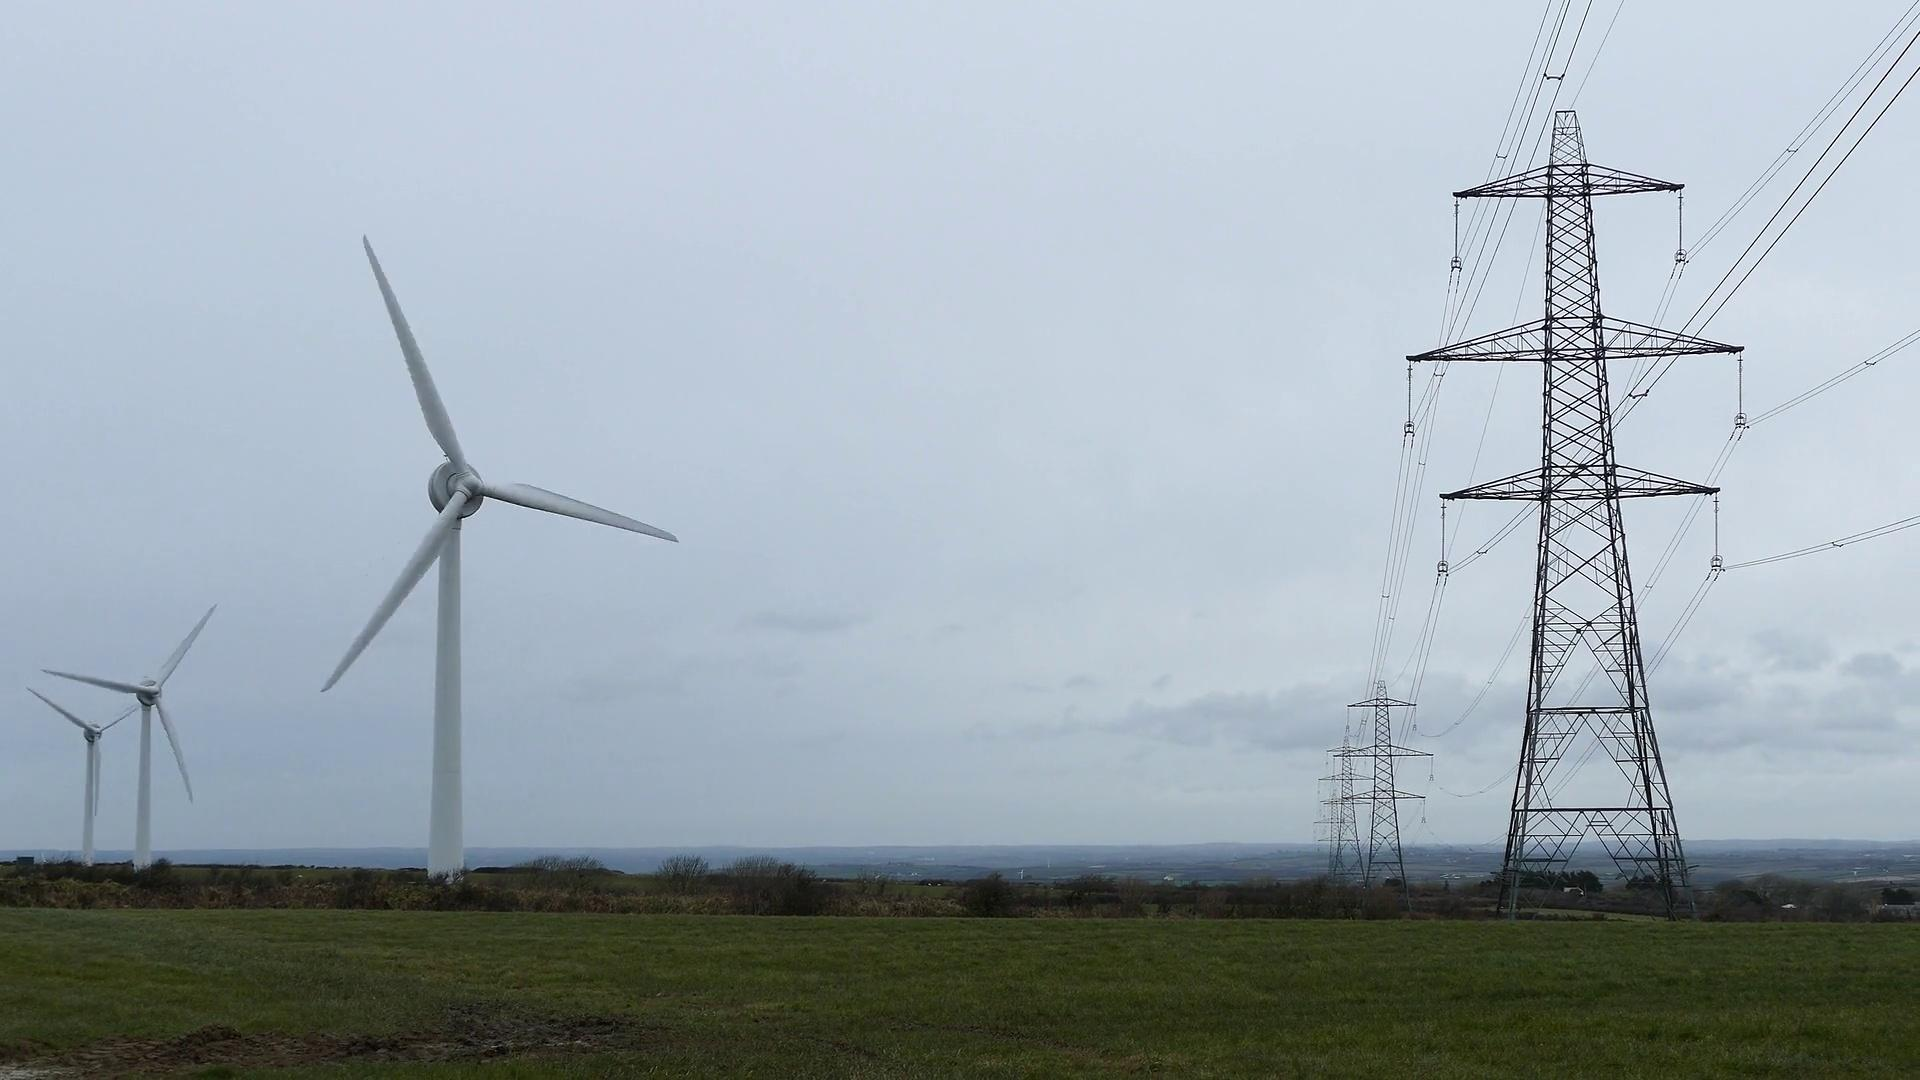cable tower: (1399, 108, 1745, 928), (1333, 680, 1436, 919), (1317, 736, 1375, 893), (1312, 789, 1356, 880)
turbine: (218, 175, 740, 949), (63, 579, 293, 918), (37, 633, 193, 887)
